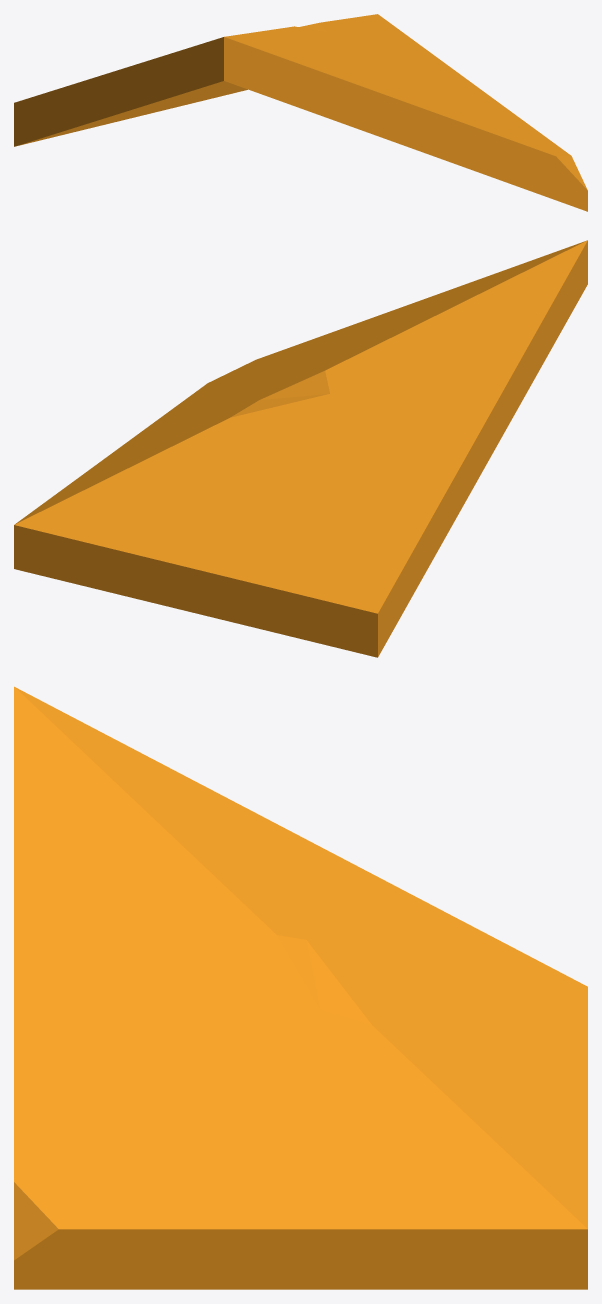
Rendered from SM_Buildings_RoofAngledCornerOuter_1x1_01P.fbx.
3 views of the same model, one above another, from view 1: azimuth 30°, elevation 25°; view 2: azimuth 150°, elevation 25°; view 3: azimuth 270°, elevation 25° (orthographic). The views are drawn at different scales.
Parts seen in each view (by area): view 1: SM_Buildings_RoofAngledCornerOuter_1x1_01P; view 2: SM_Buildings_RoofAngledCornerOuter_1x1_01P; view 3: SM_Buildings_RoofAngledCornerOuter_1x1_01P.
Boxes of the visible parts, box(x1,y1,x2,y2) form: SM_Buildings_RoofAngledCornerOuter_1x1_01P: box(14, 14, 587, 211); SM_Buildings_RoofAngledCornerOuter_1x1_01P: box(14, 240, 587, 657); SM_Buildings_RoofAngledCornerOuter_1x1_01P: box(14, 686, 587, 1289).
Bounding box in the file's own units: 100 × 69.29 × 100.
